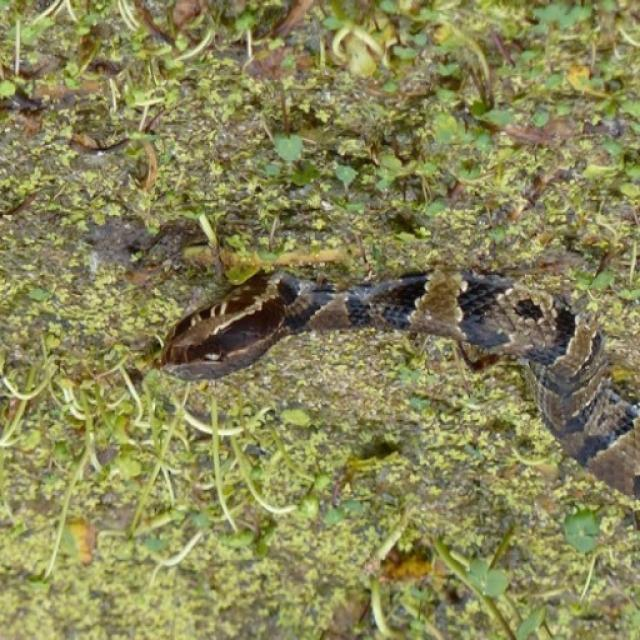snake: (141, 256, 640, 495)
